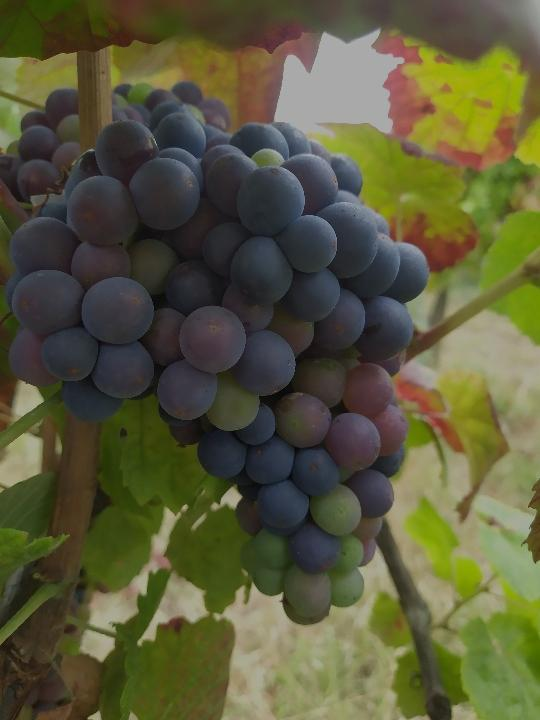grape: (2, 108, 434, 628)
